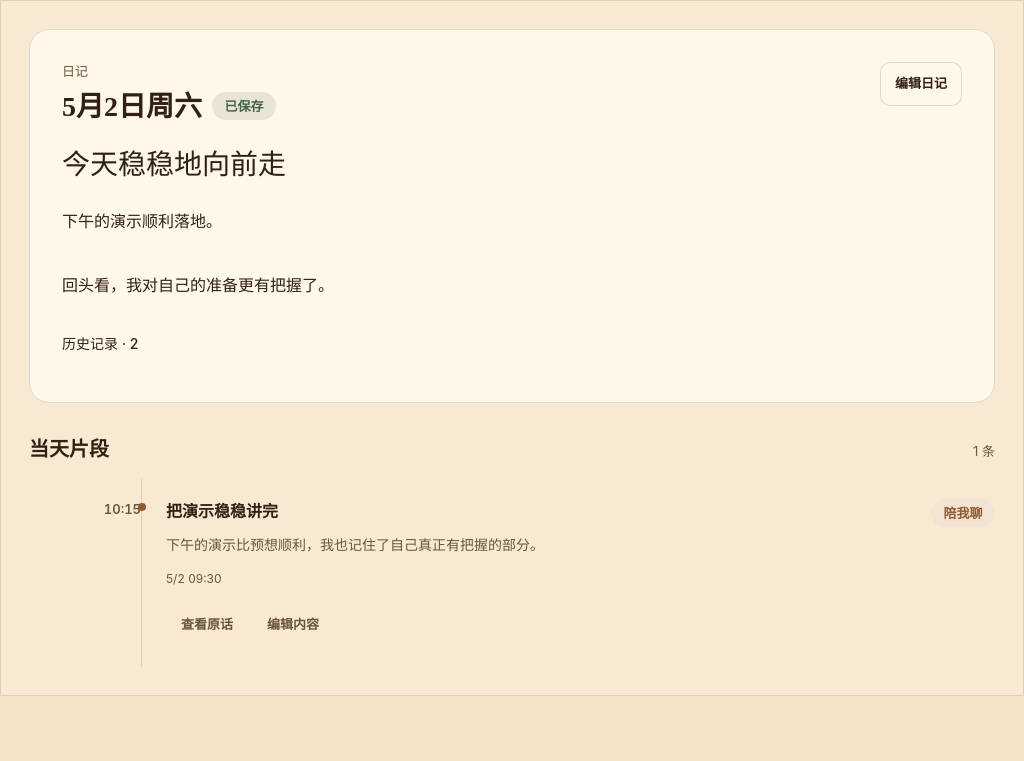
Test: journal day workspace › keeps saved legacy journals and dimensions in a collapsed read-only history
Click the heading "历史记录 · 2" at (100, 344), box top-left (62, 335), bottom-right (138, 352)
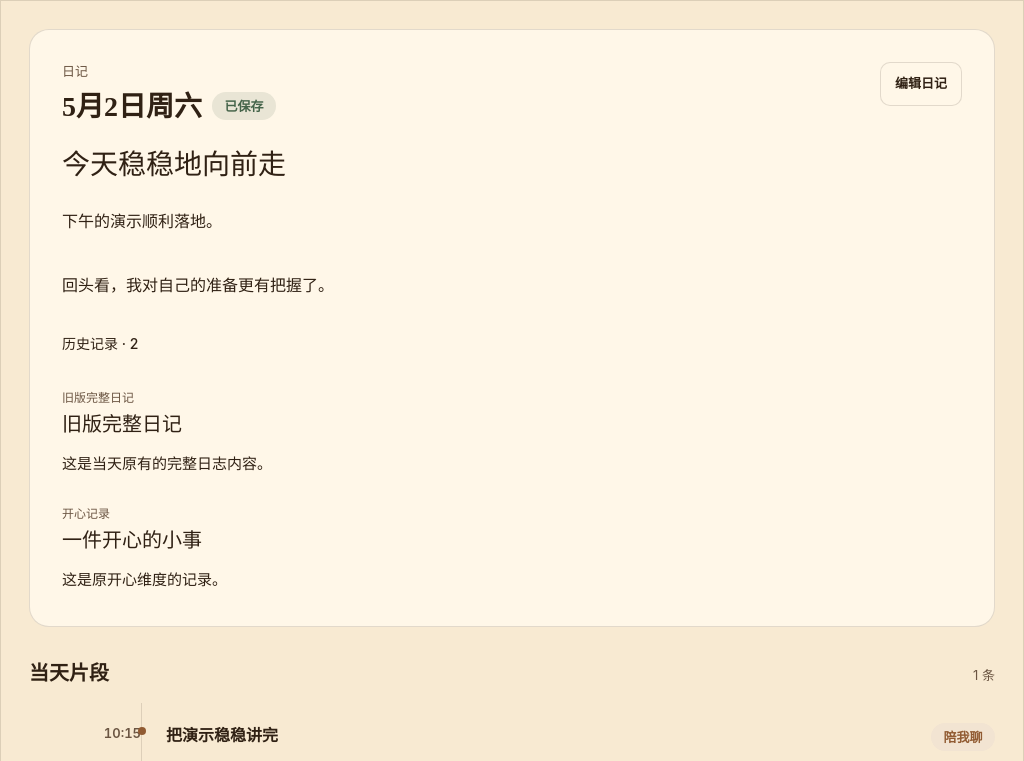
Expected: the text "这是当天原有的完整日志内容。" is shown, top-left (62, 456), bottom-right (272, 472)
Expected: the text "开心记录" is shown, top-left (62, 506), bottom-right (110, 521)
